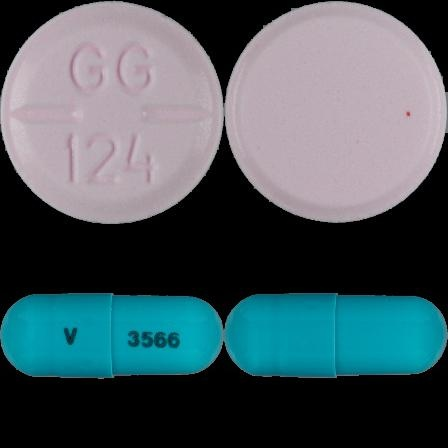53808-0414: (0, 0, 224, 224)
